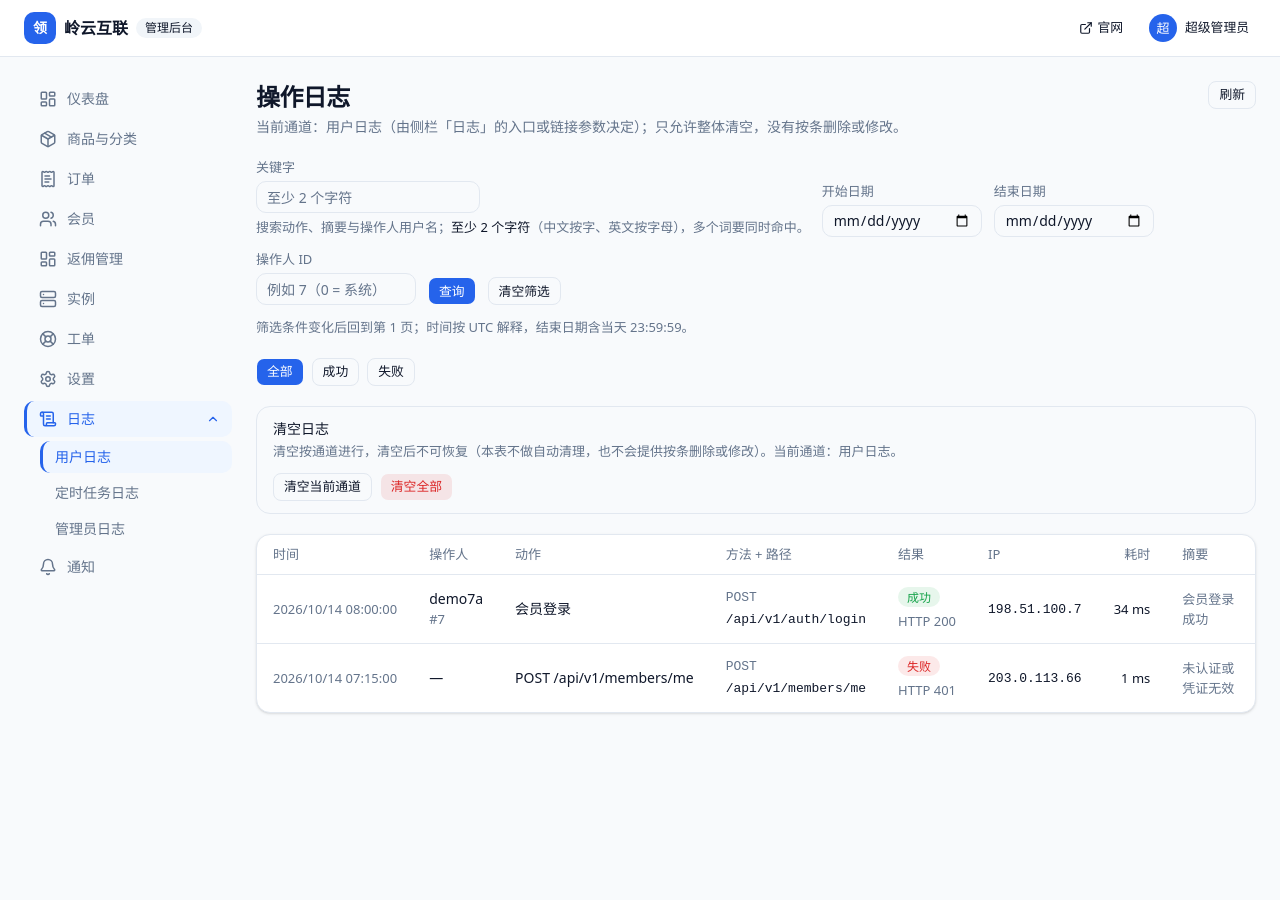
Test: 管理后台 · 操作日志 › 时间范围与结果筛选：起止日期（可留空）与 status 一并提交
Expected: the heading "操作日志" is shown, [256,80,350,113]
Step 1. Type "2026-10-01" into the date field labelled "开始日期" → (902, 221), box [822,205,982,237]
Step 2. Type "2026-10-14" into the date field labelled "结束日期" → (1074, 221), box [994,205,1154,237]
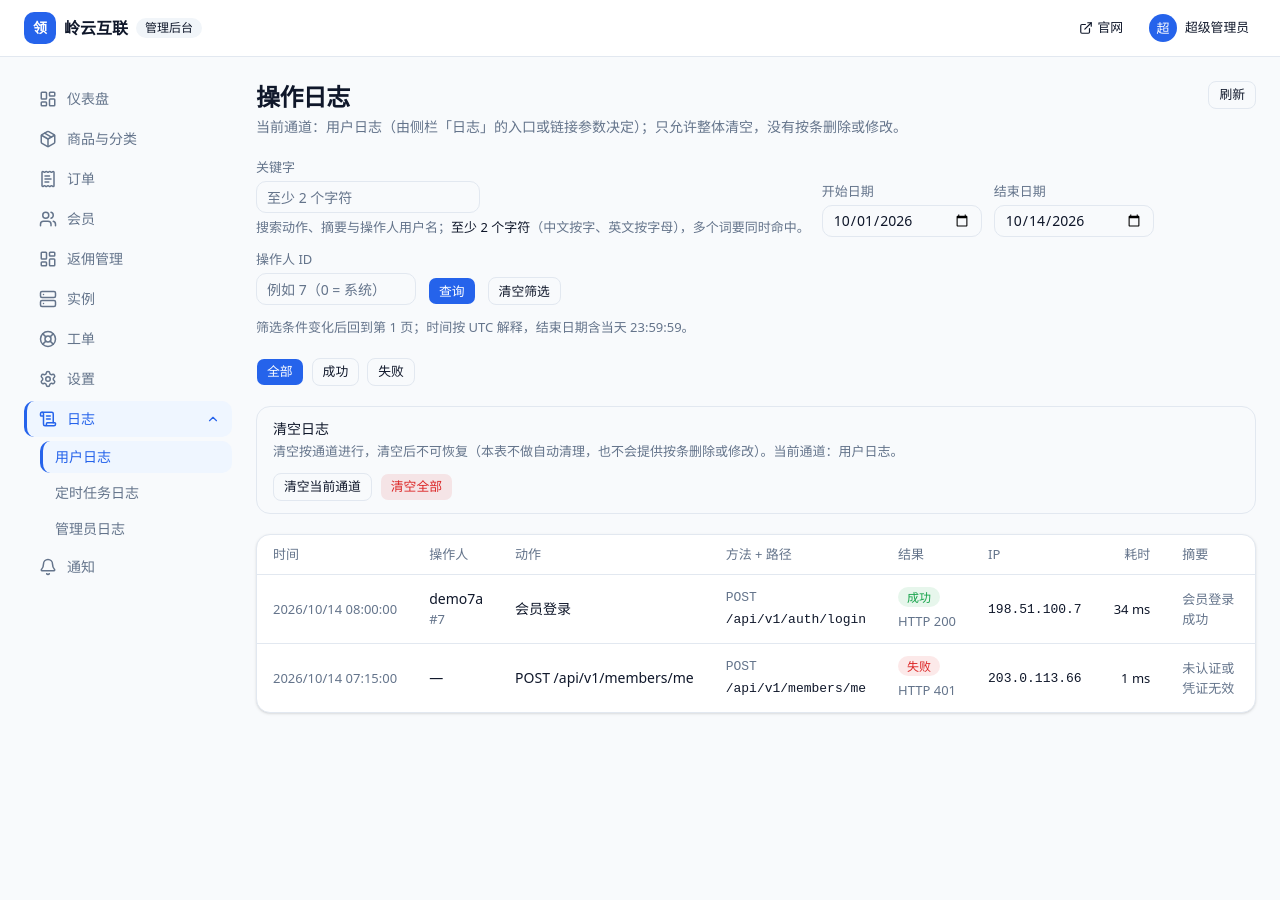
Step 3. Click the button "查询" → (452, 291), box [428,277,476,305]
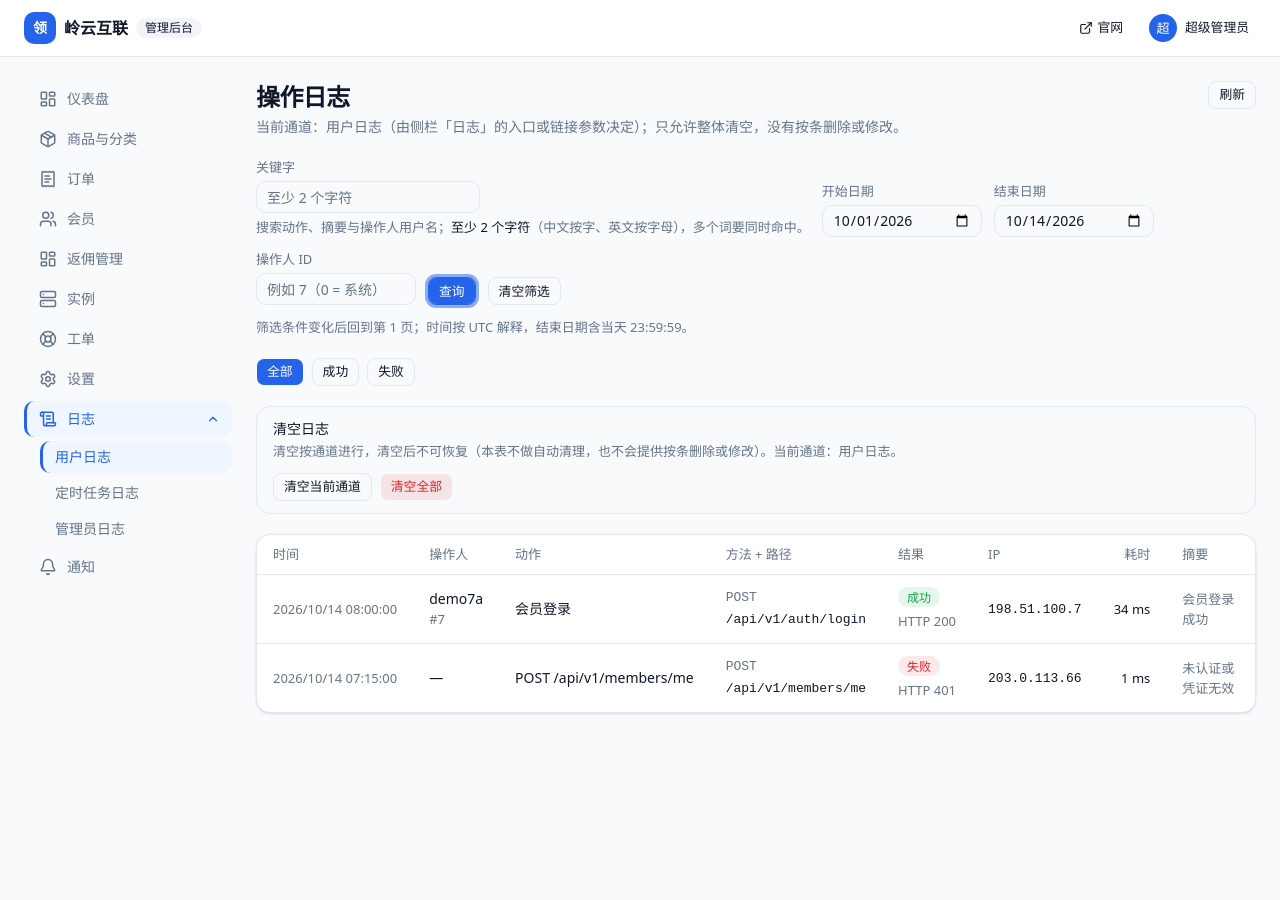
Step 4. Click the button "失败" → (391, 372), box [367,358,415,386]
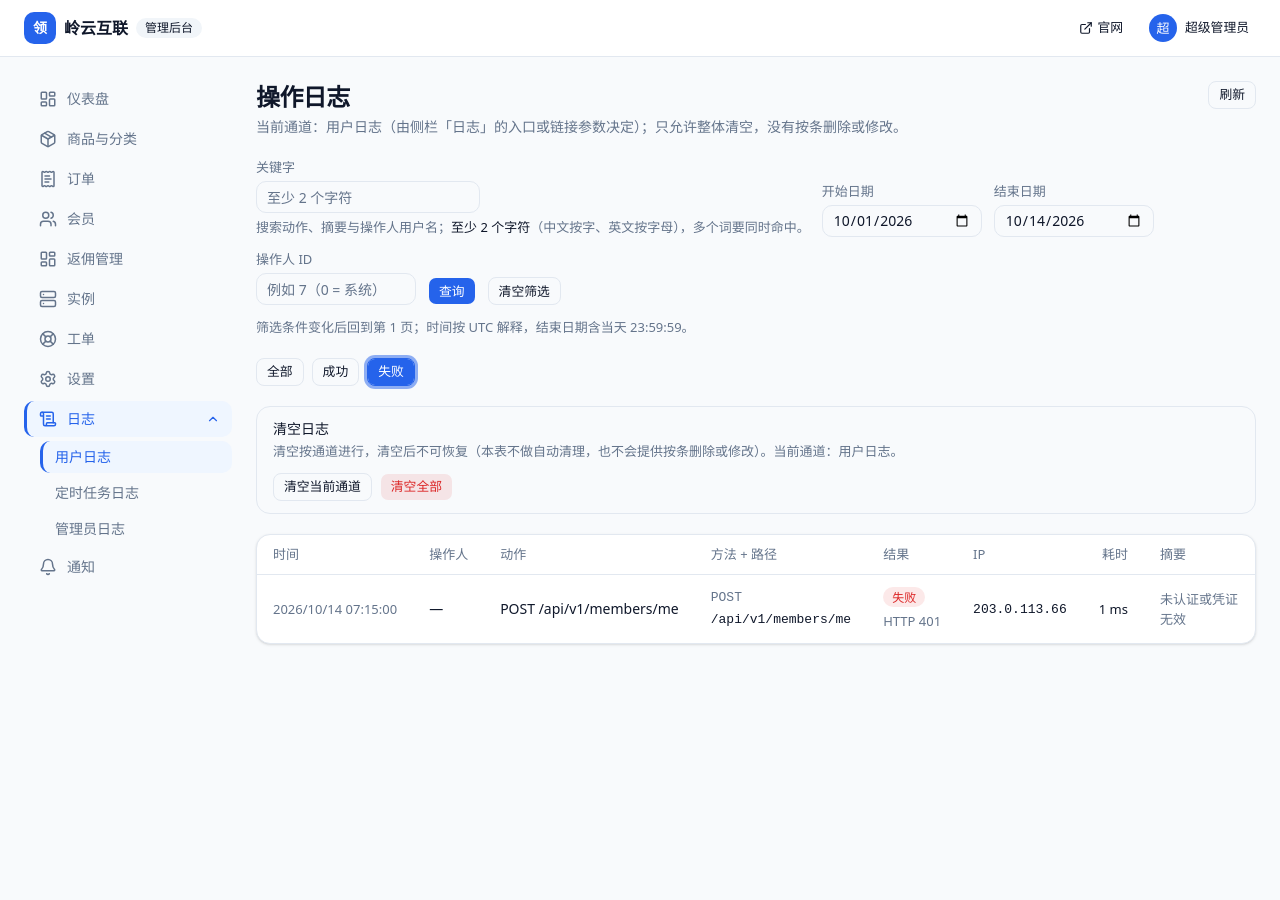
起晚于止：前端拦截（与后端 40002 同口径），不发请求
Step 5. Type "2026-10-20" into the date field labelled "开始日期" → (902, 221), box [822,205,982,237]
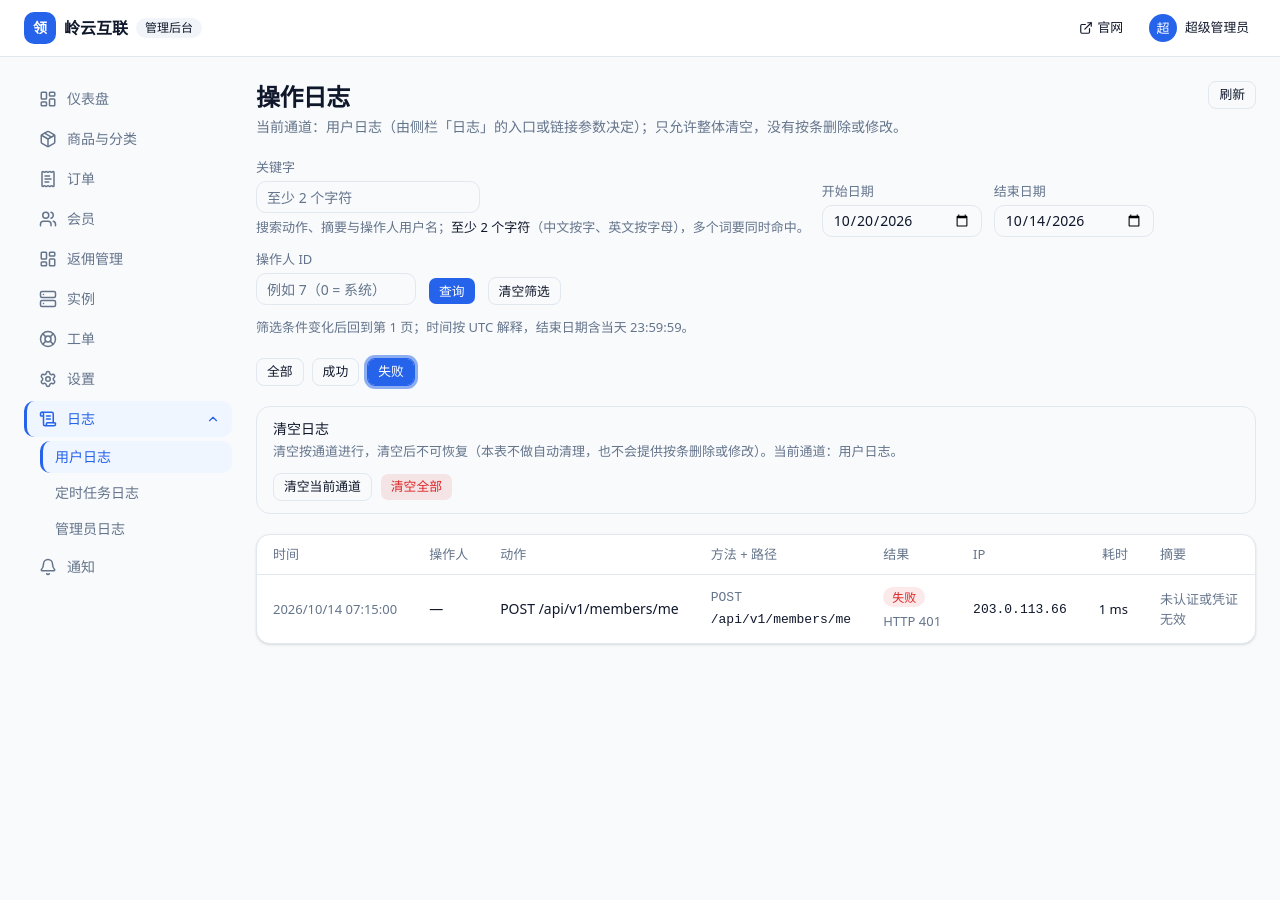
Step 6. Type "2026-10-01" into the date field labelled "结束日期" → (1074, 221), box [994,205,1154,237]
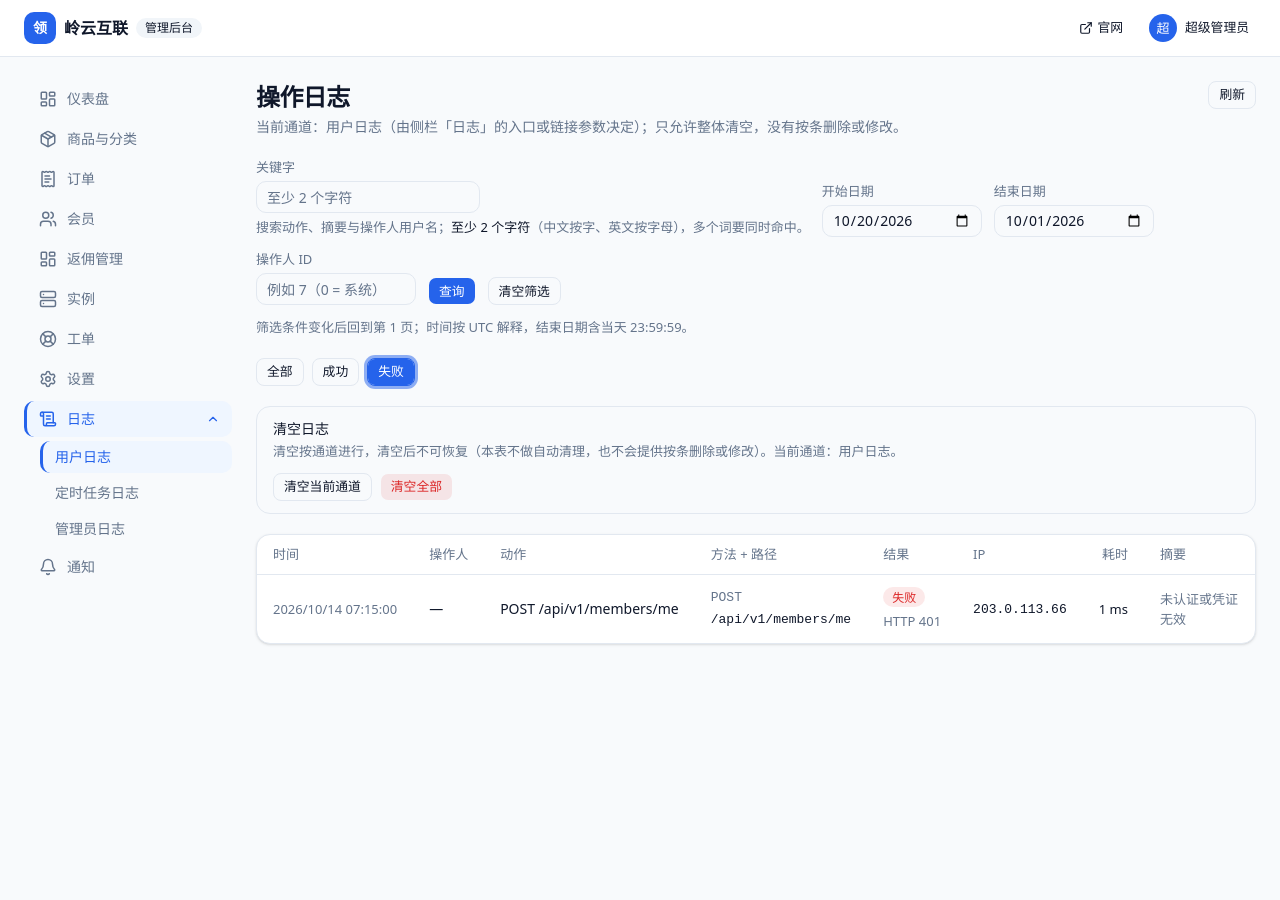
Step 7. Click the button "查询" → (452, 291), box [428,277,476,305]
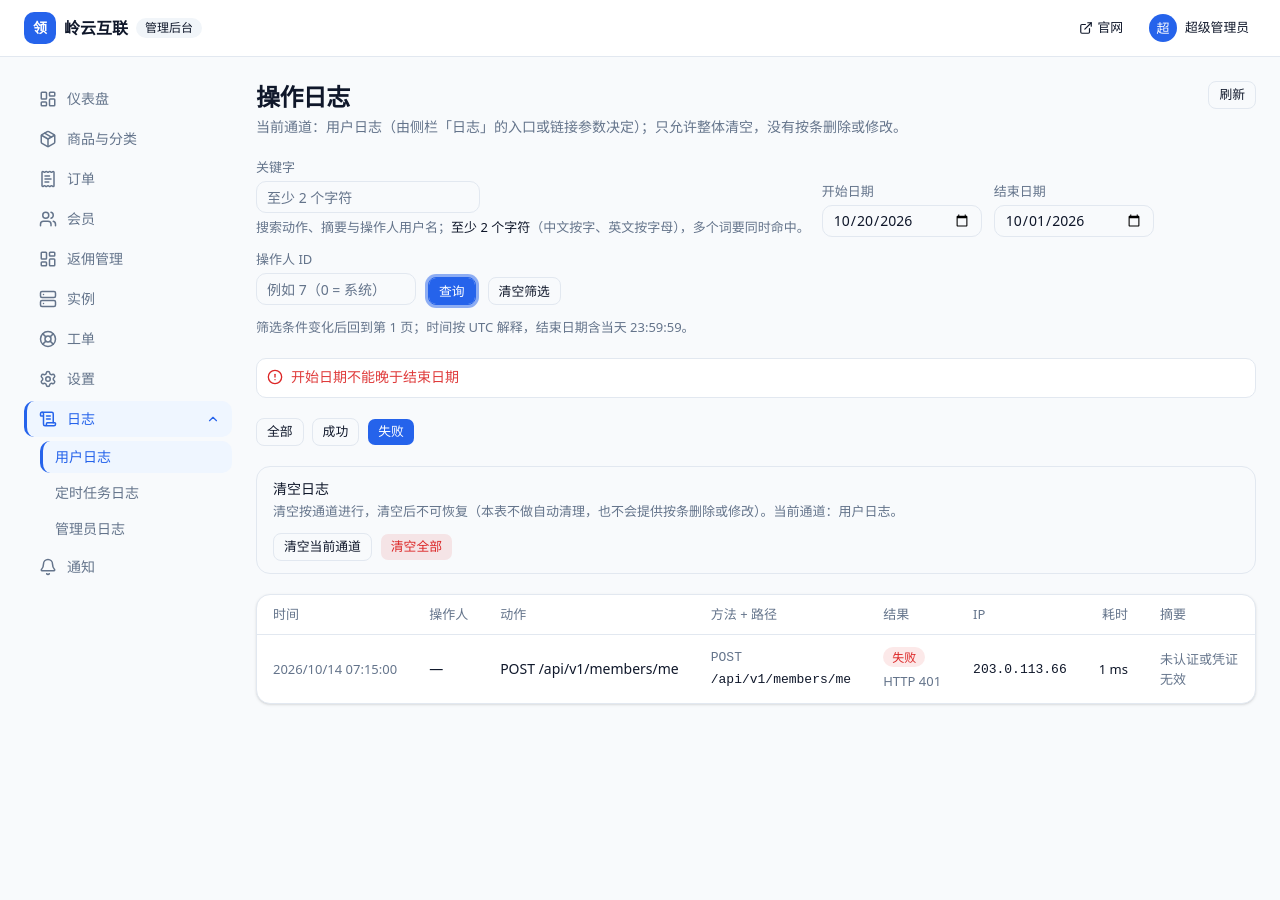
Expected: the text "开始日期不能晚于结束日期" is shown, [291,367,459,386]
